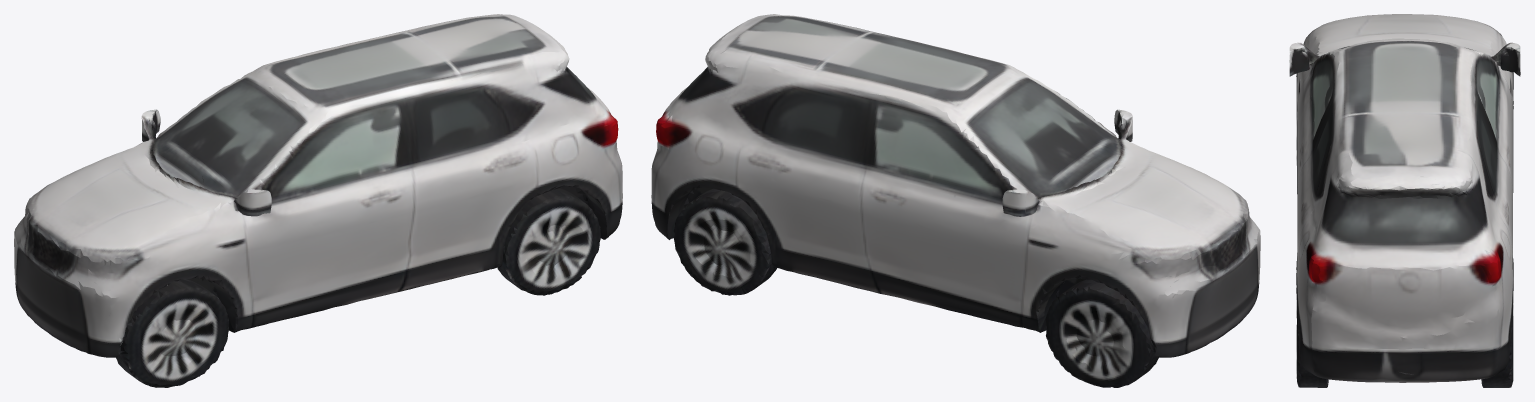
The model's file is car.glb.
3 renders of one model, left to right at view 1: azimuth 30°, elevation 25°; view 2: azimuth 150°, elevation 25°; view 3: azimuth 270°, elevation 25°, orthographic. The views are drawn at different scales.
Visible parts, largest first — view 1: Car; view 2: Car; view 3: Car.
Boxes of the visible parts, x1,y1,x2,y2 form: Car: (14,14,622,387); Car: (651,14,1260,387); Car: (1289,14,1520,387).
Size of the model in its own units: 1.89 by 0.7459 by 0.6659.
1 material, 1 textured.
